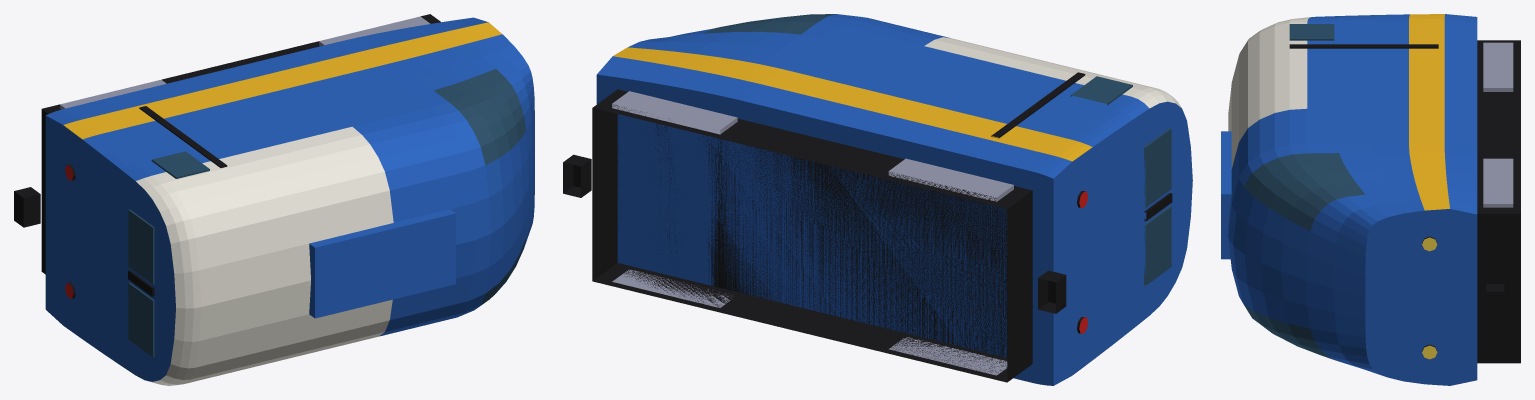
3 views of the same model, side by side, from view 1: azimuth 30°, elevation 25°; view 2: azimuth 150°, elevation 25°; view 3: azimuth 270°, elevation 25° (orthographic). The views are drawn at different scales.
Parts seen in each view (by area): view 1: default_body, default_roof_pod, default_skirt, default_screen-1-0.62, default_screen-10.62, default_coupler-1, default_side1_-3.30_3.85_glass_dark, default_pod11, default_side1_-2.51_2.10_black, default_pod-11; view 2: default_body, default_skirt, default_pod11, default_pod-11, default_pod-1-1, default_screen-10.62, default_screen-1-0.62, default_pod1-1, default_coupler-1, default_coupler1, default_side1_-3.30_3.85_glass_dark, default_side1_-2.51_2.10_black; view 3: default_body, default_skirt, default_pod11, default_pod-11, default_roof_pod, default_side1_-3.30_3.85_glass_dark, default_side1_-2.51_2.10_black, default_coupler1.
Boxes of the visible parts, <box> form: default_body: <box>45,17,534,385</box>; default_roof_pod: <box>309,209,455,318</box>; default_skirt: <box>41,14,440,274</box>; default_screen-1-0.62: <box>128,282,154,357</box>; default_screen-10.62: <box>128,209,154,284</box>; default_coupler-1: <box>14,187,40,227</box>; default_side1_-3.30_3.85_glass_dark: <box>151,151,209,178</box>; default_pod11: <box>319,16,430,46</box>; default_side1_-2.51_2.10_black: <box>139,106,227,167</box>; default_pod-11: <box>60,79,166,109</box>; default_body: <box>596,14,1192,385</box>; default_skirt: <box>592,89,1032,382</box>; default_pod11: <box>612,91,737,134</box>; default_pod-11: <box>888,158,1013,201</box>; default_pod-1-1: <box>889,337,1007,375</box>; default_screen-10.62: <box>1144,128,1171,207</box>; default_screen-1-0.62: <box>1144,206,1171,285</box>; default_pod1-1: <box>612,269,731,307</box>; default_coupler-1: <box>1038,270,1066,313</box>; default_coupler1: <box>563,154,591,197</box>; default_side1_-3.30_3.85_glass_dark: <box>1070,76,1132,105</box>; default_side1_-2.51_2.10_black: <box>991,72,1085,138</box>; default_body: <box>1228,14,1477,385</box>; default_skirt: <box>1477,40,1520,363</box>; default_pod11: <box>1483,158,1513,207</box>; default_pod-11: <box>1483,42,1513,91</box>; default_roof_pod: <box>1221,131,1231,259</box>; default_side1_-3.30_3.85_glass_dark: <box>1289,24,1334,40</box>; default_side1_-2.51_2.10_black: <box>1289,44,1438,48</box>; default_coupler1: <box>1486,284,1504,318</box>.
Size of the model in its own units: 8.2 by 3.5 by 5.03.
